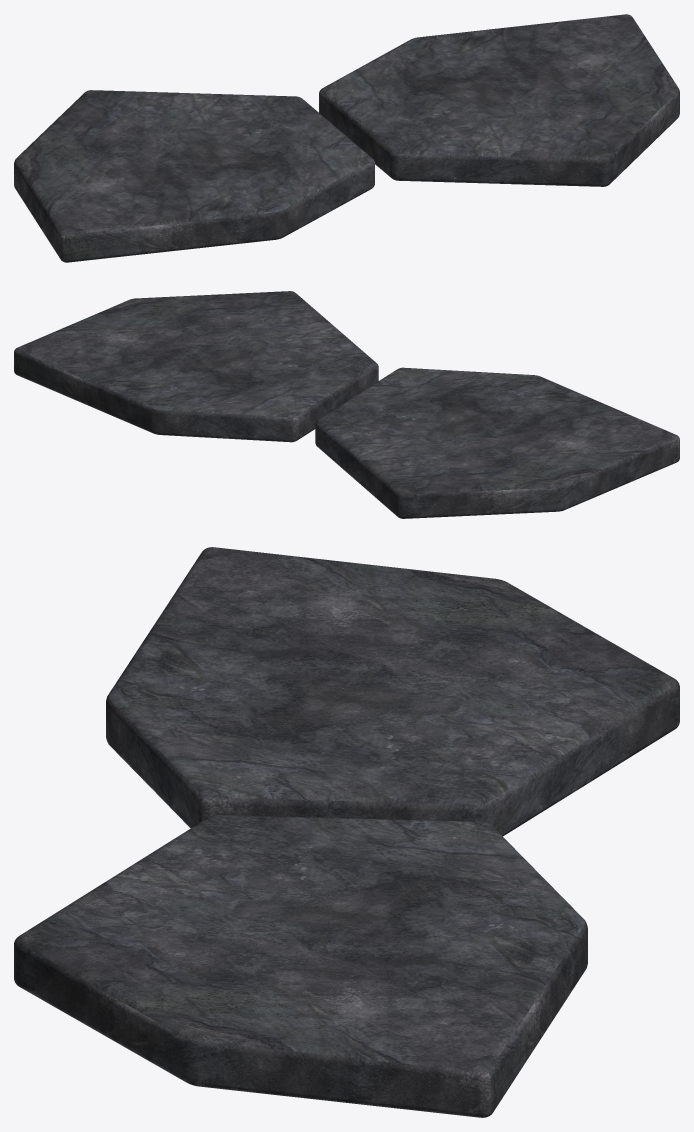
Rendered from stone2.glb.
The picture shows the model from 3 angles, top to bottom: view 1: azimuth 30°, elevation 25°; view 2: azimuth 150°, elevation 25°; view 3: azimuth 270°, elevation 25°; orthographic projection. The views are drawn at different scales.
Visible parts, largest first — view 1: Stone_Path.003; view 2: Stone_Path.003; view 3: Stone_Path.003.
Boxes of the visible parts, <box> form: Stone_Path.003: <box>14,14,679,262</box>; Stone_Path.003: <box>14,291,679,518</box>; Stone_Path.003: <box>14,547,679,1117</box>.
Size of the model in its own units: 1.77 by 0.0784 by 0.9442.
Materials: 1 (1 with a texture image).
